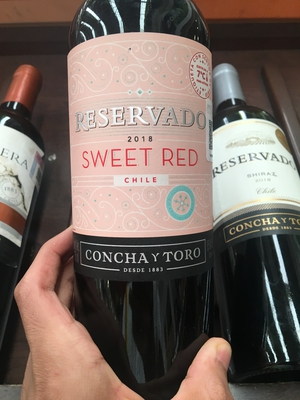reservado sweet red: (57, 7, 220, 389)
